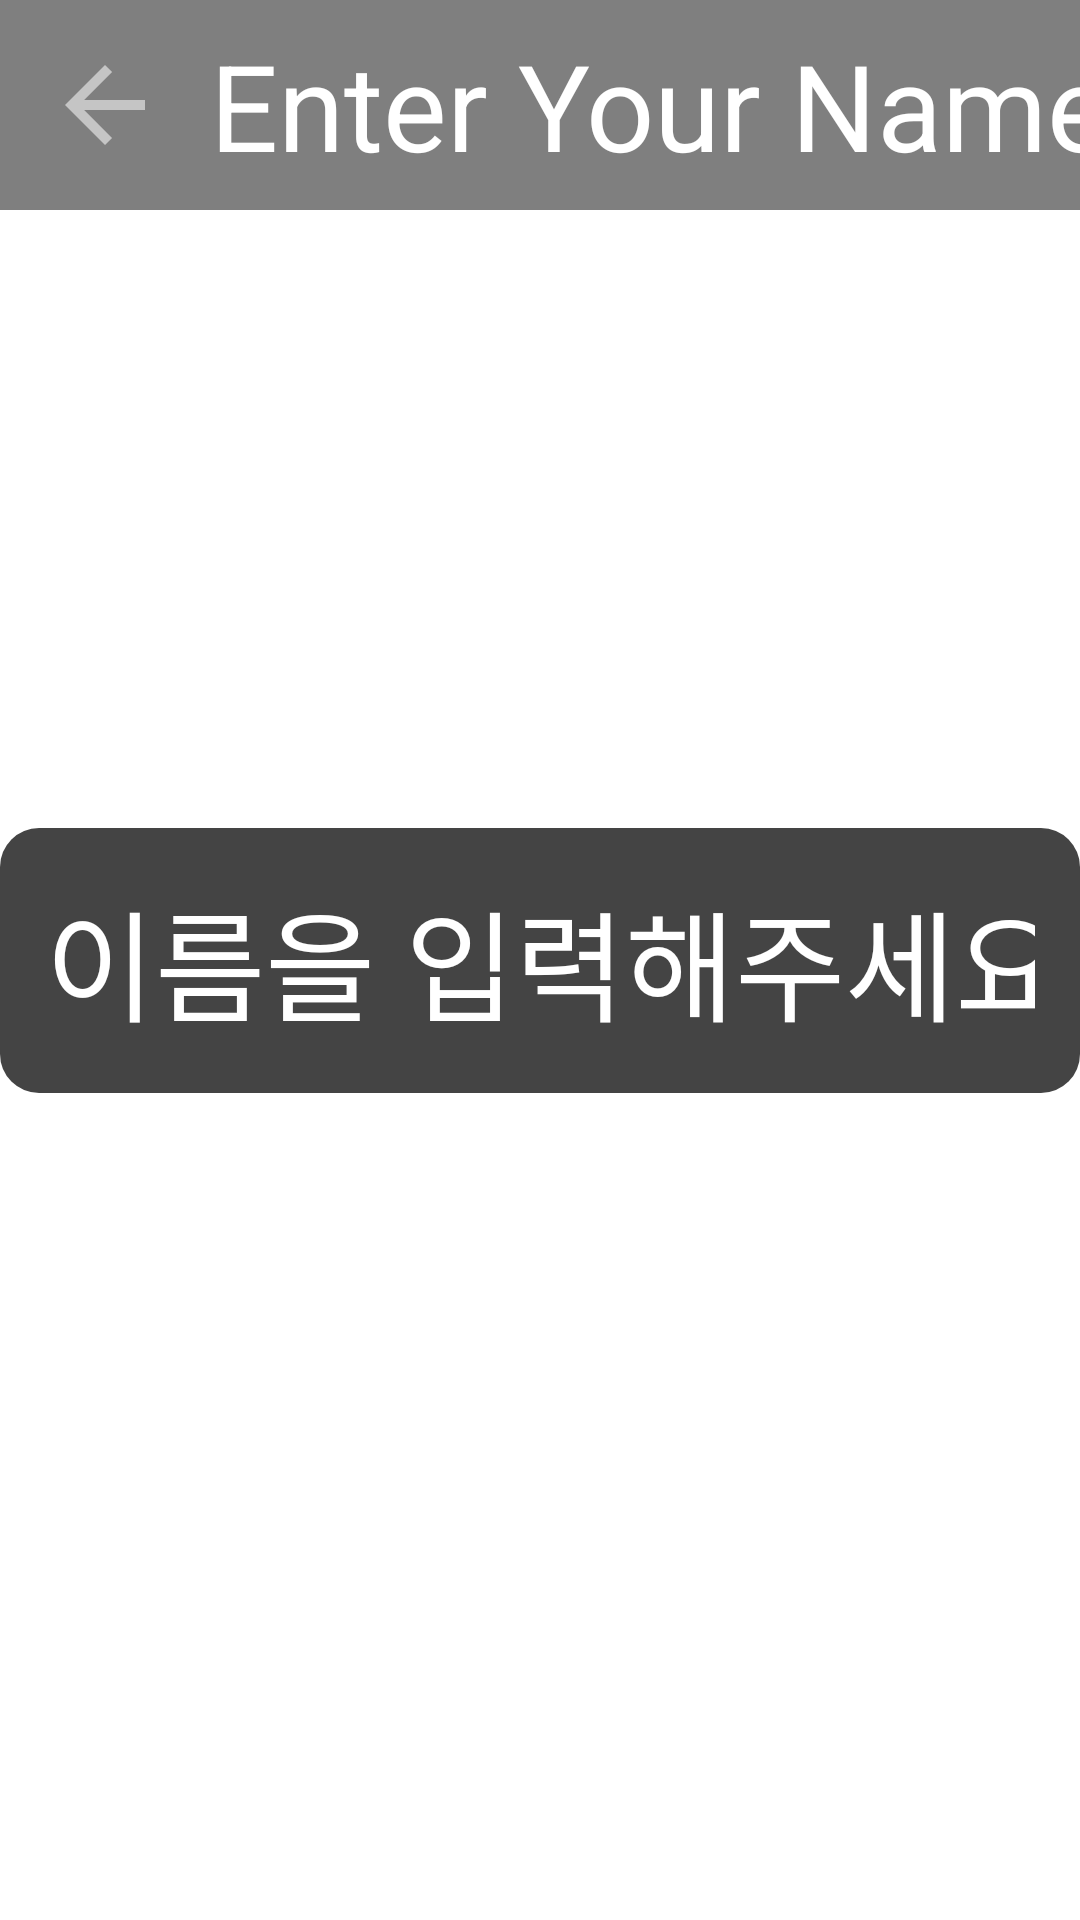

Where icons sit on this 1080px×1920px app screen, as (x1, y1, x2, y2):
arrow back: (65, 65, 145, 145)
